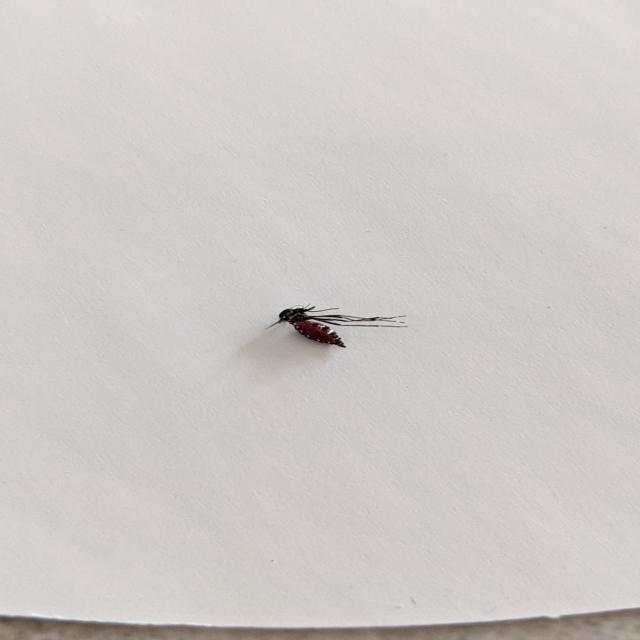albopictus: (258, 297, 402, 351)
